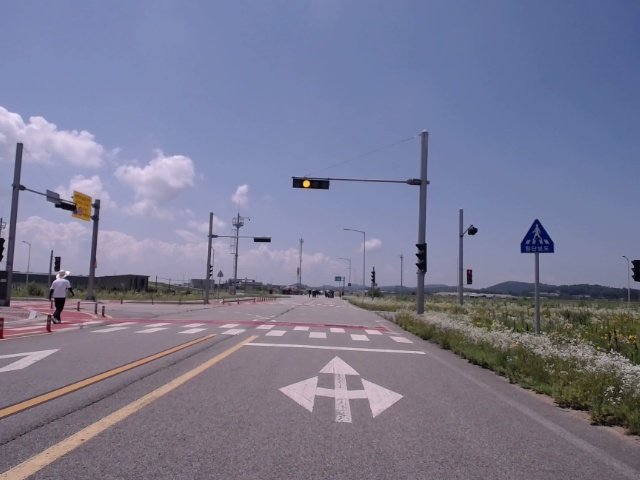orange_4: (294, 177, 331, 190)
